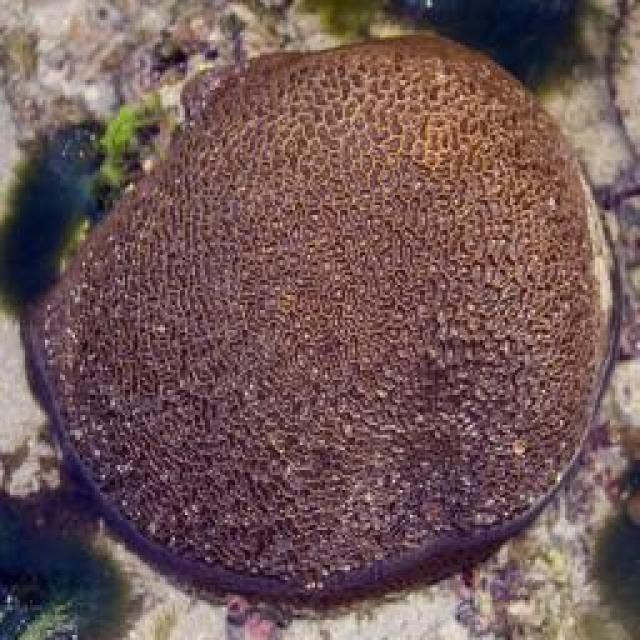aquatic plants: (0, 94, 174, 323), (310, 1, 624, 97), (0, 482, 140, 638), (578, 462, 638, 638)
reefs: (22, 34, 623, 613)
